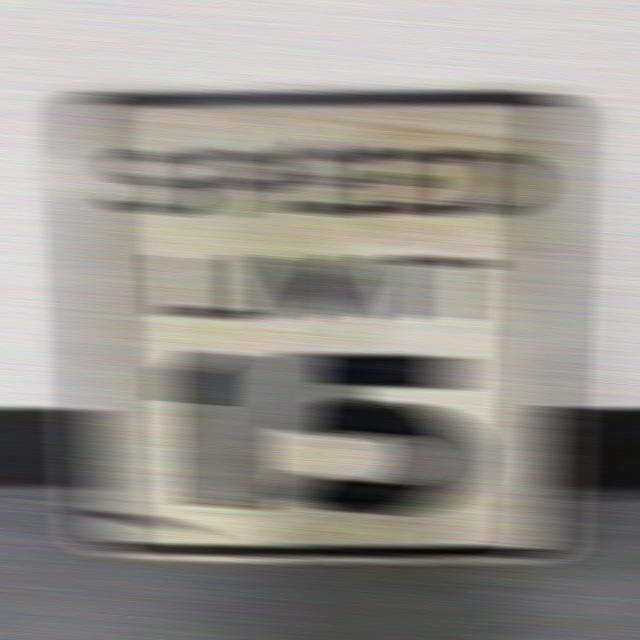speedLimit15: (51, 91, 582, 569)
